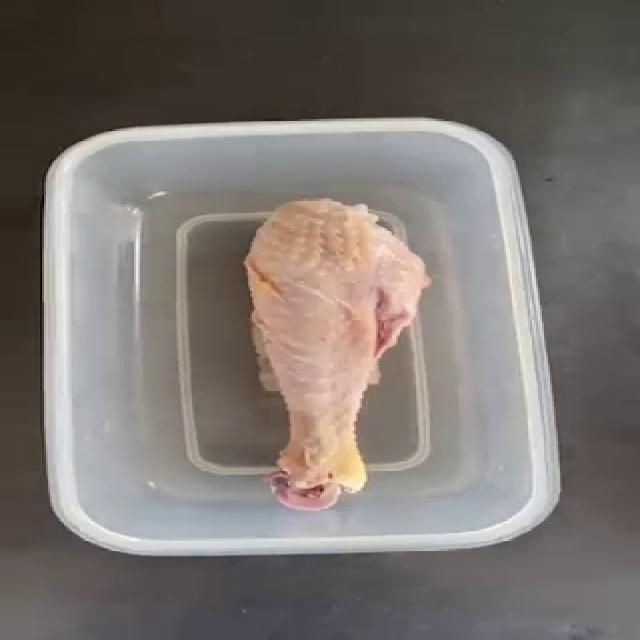chicken: (232, 196, 430, 524)
